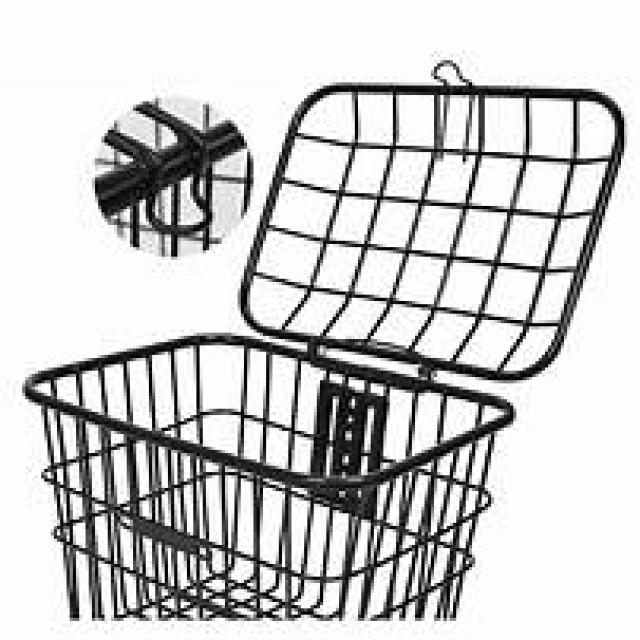basket: (23, 329, 514, 638)
